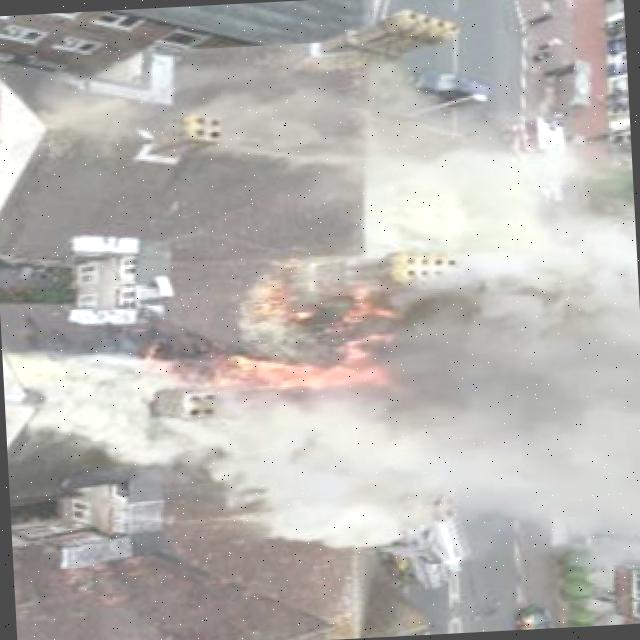fire: (16, 340, 253, 476), (225, 343, 403, 402), (305, 288, 380, 346), (240, 267, 308, 329)
